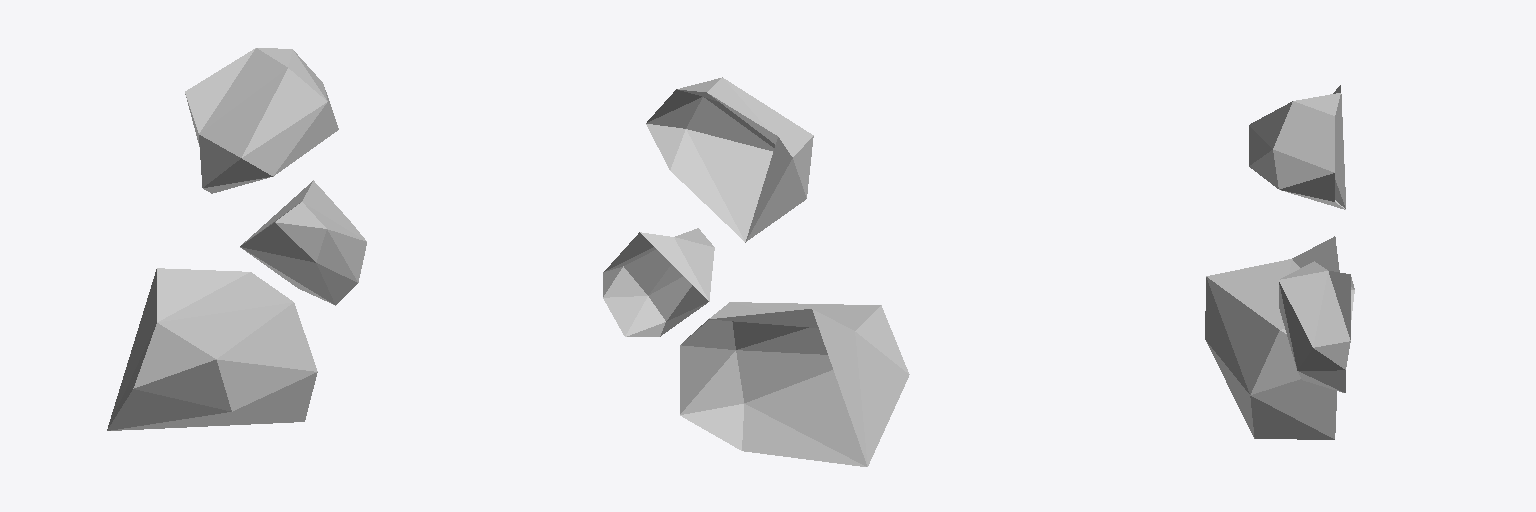
The model's file is rock_1.obj.
The picture shows the model from 3 angles: view 1: azimuth 30°, elevation 25°; view 2: azimuth 150°, elevation 25°; view 3: azimuth 270°, elevation 25°; orthographic projection.
Visible parts, largest first — view 1: Rock_1_Cylinder.007; view 2: Rock_1_Cylinder.007; view 3: Rock_1_Cylinder.007.
Part boxes in pixels (x1,y1,x2,y2): Rock_1_Cylinder.007: (107,48,366,430); Rock_1_Cylinder.007: (603,77,909,466); Rock_1_Cylinder.007: (1205,85,1354,439).
Bounding box in the file's own units: 0.9086 × 1.17 × 0.4461.